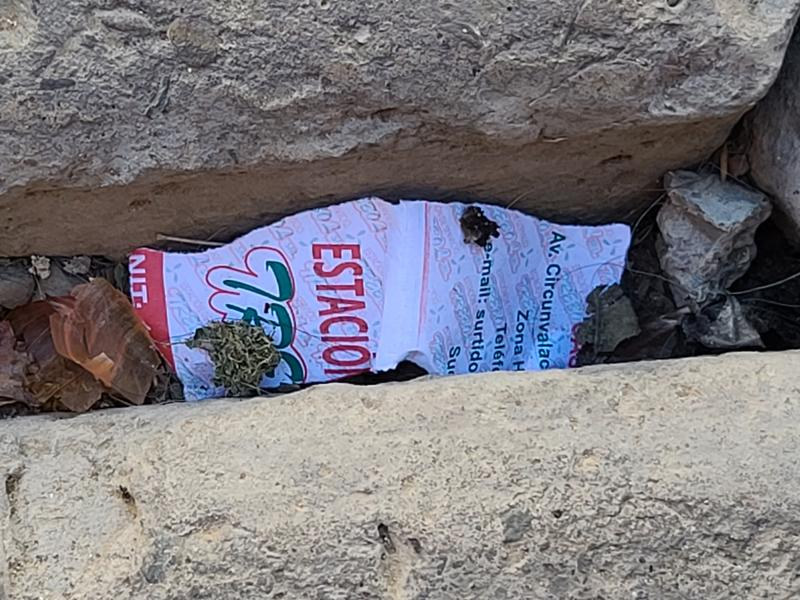papel: (126, 199, 633, 404)
